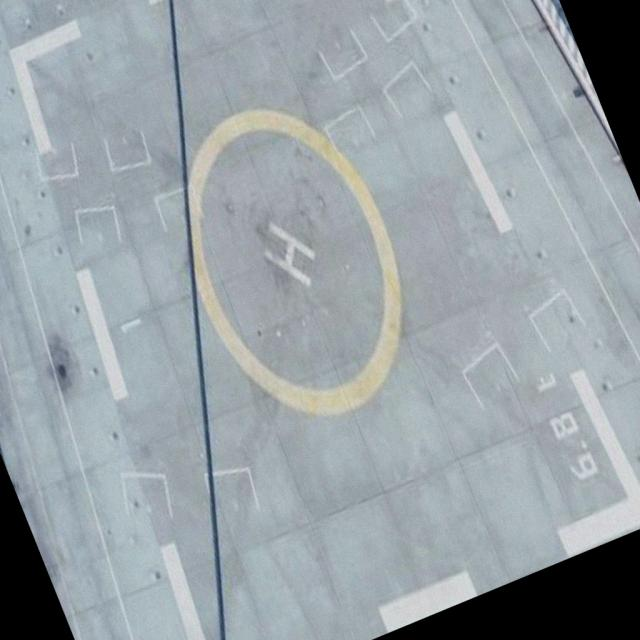helipad: (181, 102, 407, 424)
